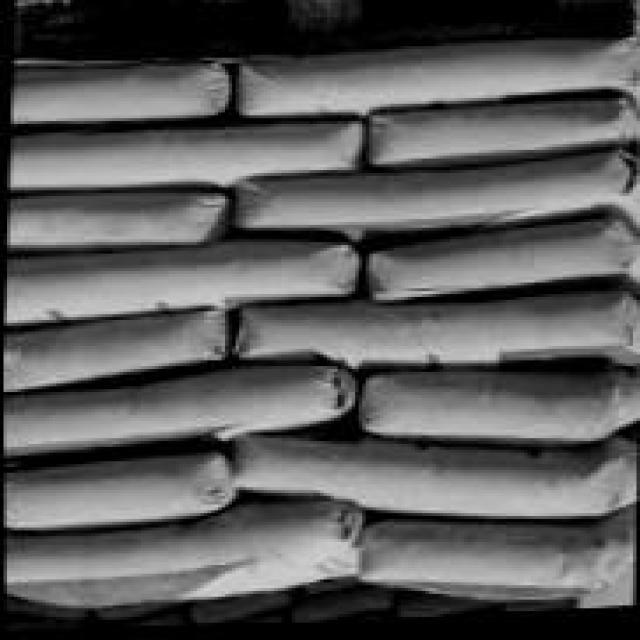gunny_bag: (4, 501, 368, 613), (226, 429, 637, 528), (226, 156, 640, 237), (3, 365, 358, 458), (2, 240, 362, 331), (231, 43, 640, 123), (231, 295, 640, 371), (354, 512, 635, 611), (7, 123, 366, 195), (362, 220, 640, 308), (352, 374, 640, 453), (364, 101, 640, 175), (3, 449, 236, 536), (2, 312, 229, 395), (4, 191, 234, 255), (9, 65, 232, 130), (285, 589, 398, 627), (183, 592, 296, 628), (392, 597, 499, 623), (4, 597, 89, 623), (88, 603, 184, 624), (96, 609, 188, 630), (4, 615, 88, 631), (496, 605, 571, 619)
